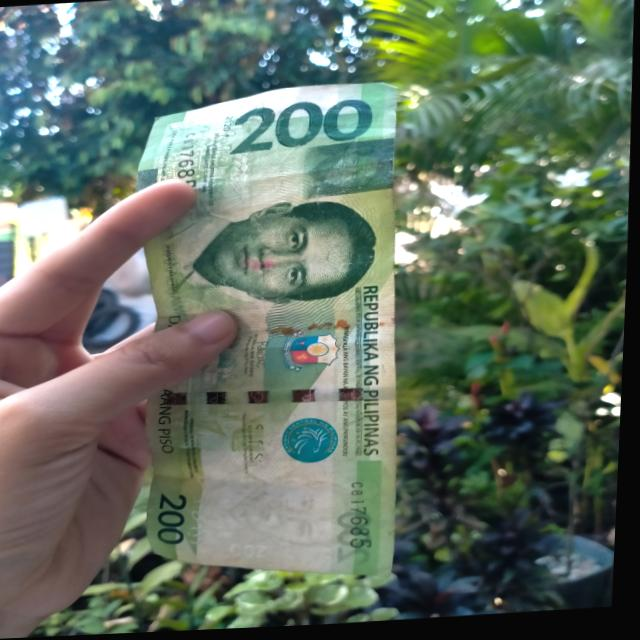concealed_value: (301, 140, 396, 199)
security_thread: (150, 377, 396, 422)
see_through_mark: (183, 469, 219, 555)
serial_number: (345, 477, 385, 557), (173, 129, 204, 196)
value: (224, 98, 375, 152)
value_watermark: (228, 539, 280, 566)
watermark: (197, 454, 367, 561)
